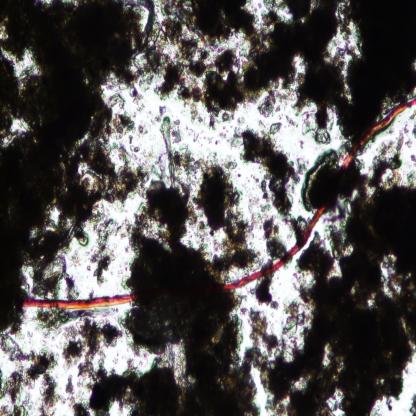Background material: (0, 0, 156, 294), (261, 188, 416, 414), (131, 182, 261, 413), (155, 0, 299, 125), (297, 0, 416, 137), (195, 157, 262, 275), (238, 130, 300, 216), (302, 150, 368, 212), (365, 128, 416, 189), (90, 360, 139, 414), (242, 307, 280, 375), (77, 322, 122, 379), (91, 214, 119, 286), (0, 275, 27, 333), (0, 364, 29, 416), (35, 308, 84, 334), (29, 348, 57, 388), (264, 214, 288, 260), (177, 147, 207, 183), (60, 325, 85, 365), (214, 122, 246, 151), (0, 334, 31, 362), (111, 107, 136, 140), (256, 84, 280, 118), (257, 277, 280, 310), (37, 389, 67, 414), (286, 213, 308, 240), (130, 87, 146, 112), (64, 374, 76, 406), (72, 404, 91, 416), (408, 388, 416, 415), (269, 120, 283, 135), (138, 124, 149, 134), (192, 131, 200, 143), (160, 105, 166, 117)
Cellulose filter fibre: (159, 117, 176, 189)
Microfibre: (223, 207, 324, 291), (342, 94, 416, 167), (19, 291, 135, 312)
